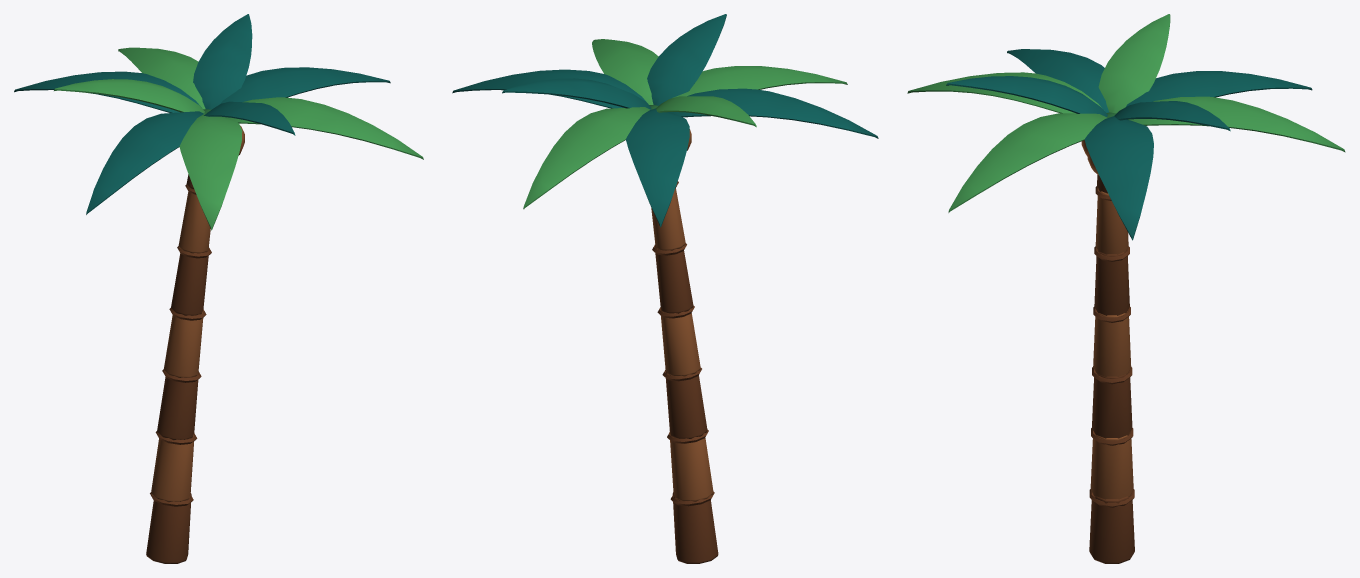
File: SM_Prop_PalmTree.fbx
3 views of the same model, side by side, from view 1: azimuth 30°, elevation 25°; view 2: azimuth 150°, elevation 25°; view 3: azimuth 270°, elevation 25° (orthographic). The views are drawn at different scales.
Parts seen in each view (by area): view 1: SM_Prop_PalmTree; view 2: SM_Prop_PalmTree; view 3: SM_Prop_PalmTree.
Boxes of the visible parts, <box> form: SM_Prop_PalmTree: <box>14,14,423,563</box>; SM_Prop_PalmTree: <box>452,14,878,563</box>; SM_Prop_PalmTree: <box>907,14,1345,563</box>.
Size of the model in its own units: 270 by 337 by 267.
